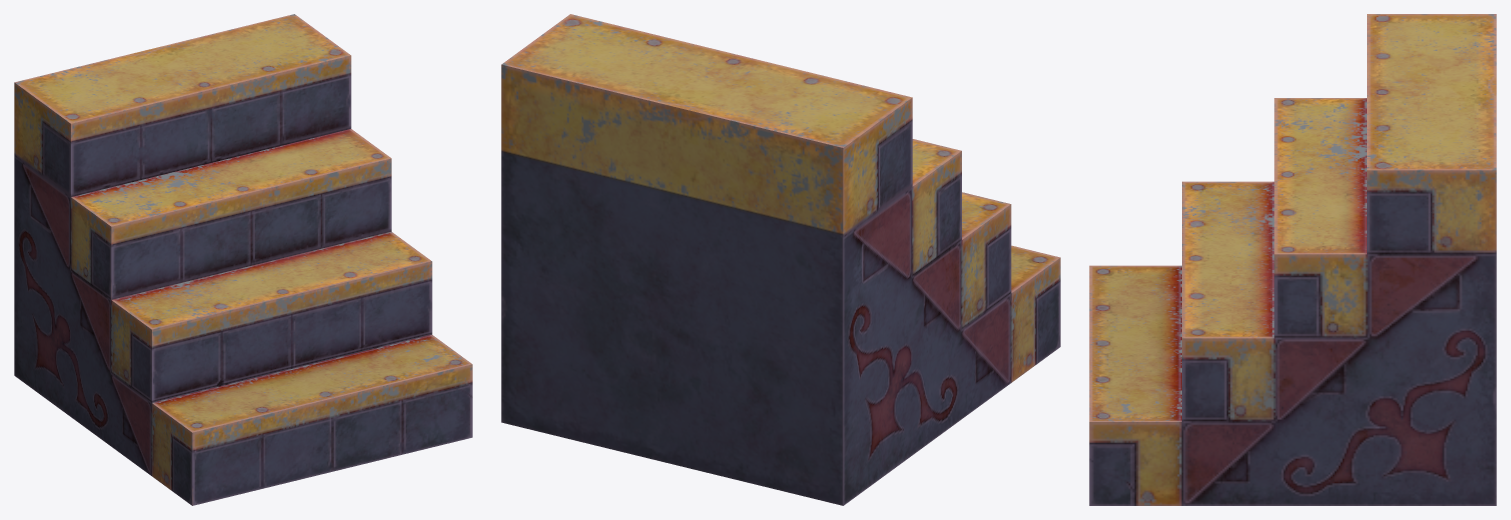
File: sb_obj_DemonsCastle002_Altar04.fbx
3 views of the same model, side by side, from view 1: azimuth 30°, elevation 25°; view 2: azimuth 150°, elevation 25°; view 3: azimuth 270°, elevation 25° (orthographic). The views are drawn at different scales.
Visible parts, largest first — view 1: sb_obj_DemonsCastle002_Altar04; view 2: sb_obj_DemonsCastle002_Altar04; view 3: sb_obj_DemonsCastle002_Altar04.
Boxes of the visible parts, <box> form: sb_obj_DemonsCastle002_Altar04: <box>14,14,472,505</box>; sb_obj_DemonsCastle002_Altar04: <box>501,14,1060,505</box>; sb_obj_DemonsCastle002_Altar04: <box>1089,14,1496,505</box>.
Bounding box in the file's own units: 1 × 1 × 1.1.
